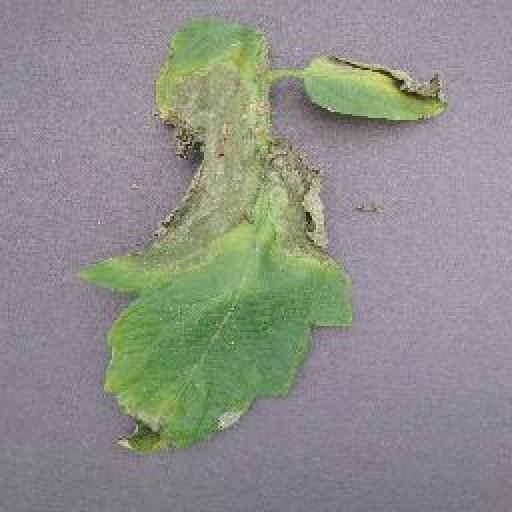disease_tomato: (76, 20, 352, 466), (306, 52, 452, 126)
